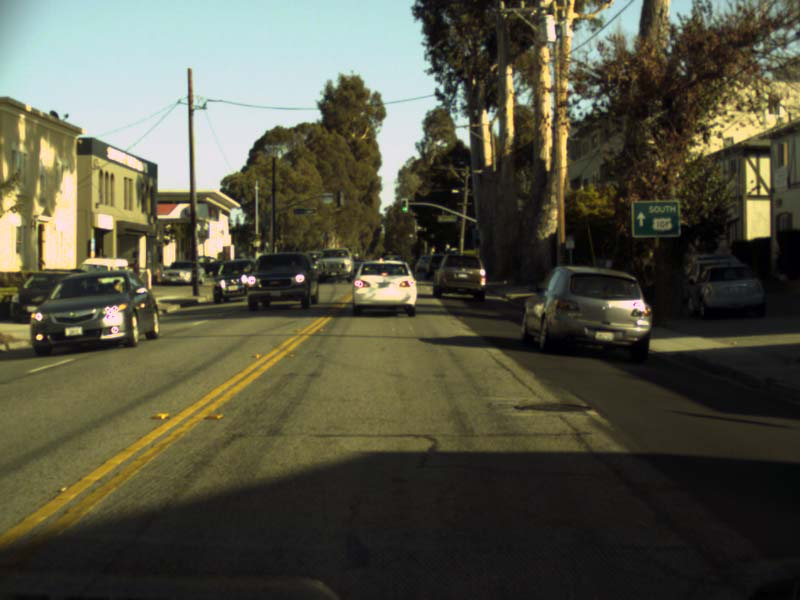Green: (400, 197, 409, 213)
